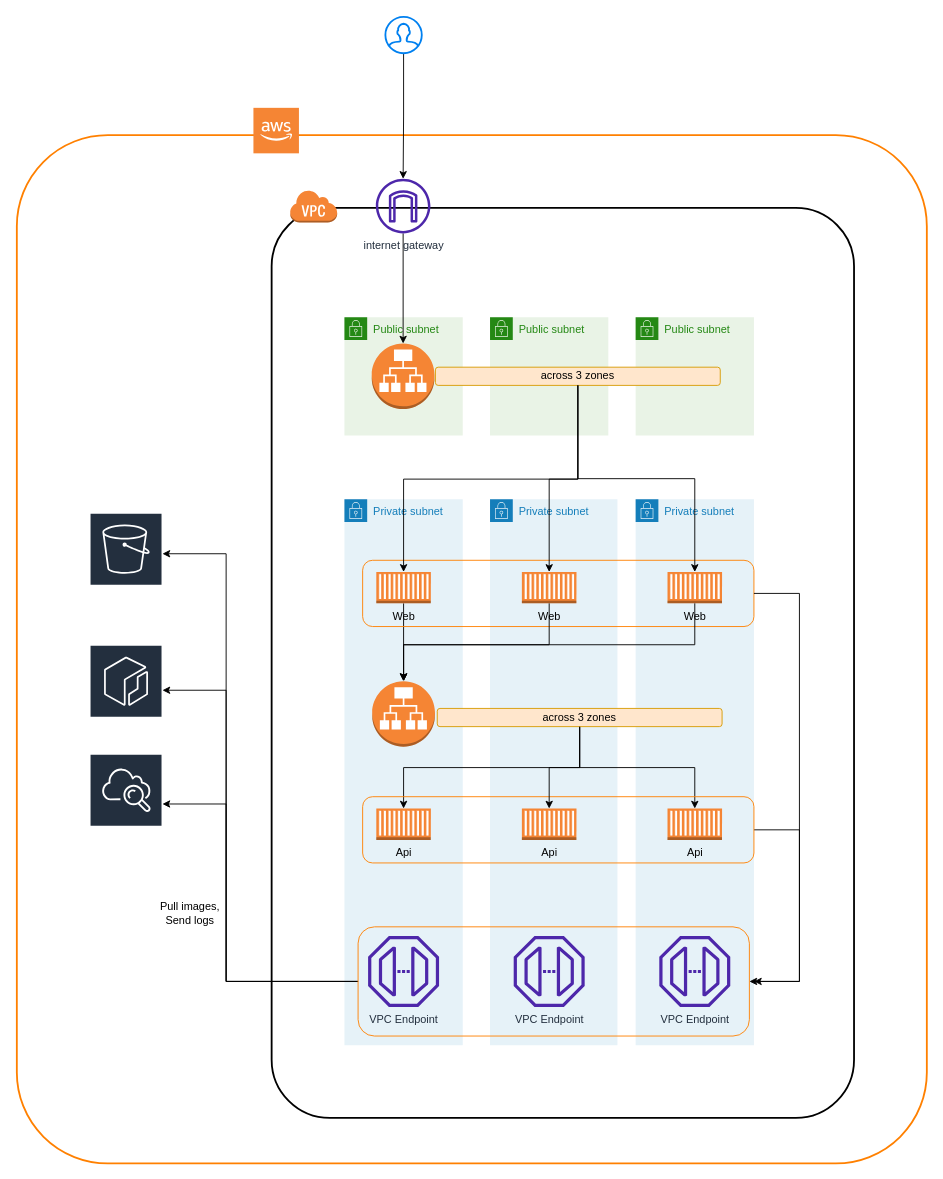
Image size: 943x1179. Some labels were removed from this diagram. Here are the shapes that lost their labels. From the top down, the centre of each, then its label:
point 403,34: User
point 403,376: public load balancer
point 125,558: Amazon S3
point 125,690: Amazon ECR
point 403,713: private load balancer
point 125,803: Amazon CloudWatch
